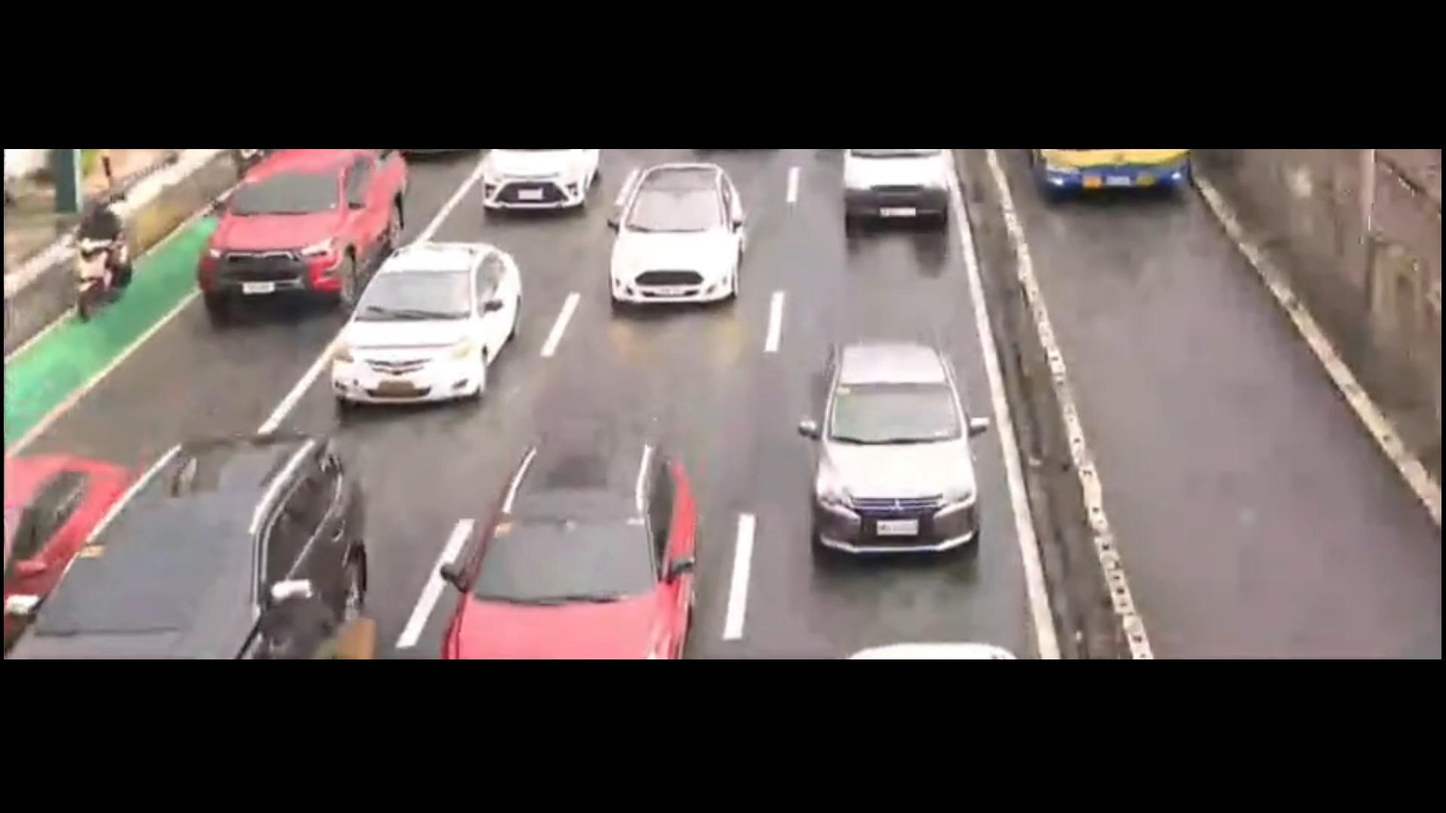Motorcycle: (68, 188, 137, 324)
SUV: (23, 435, 362, 659), (450, 435, 721, 655)
Sedan: (819, 341, 973, 550), (333, 247, 523, 406), (0, 454, 126, 644), (606, 160, 746, 316)
